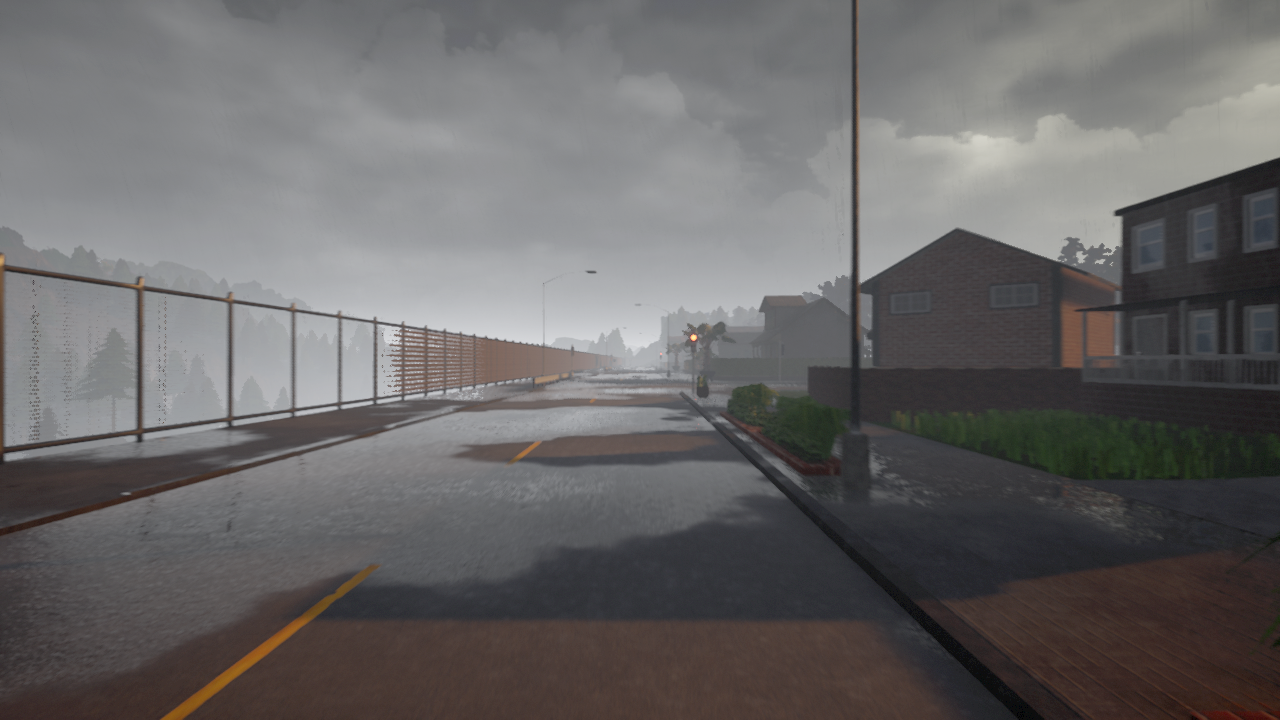red: (689, 333, 697, 353)
